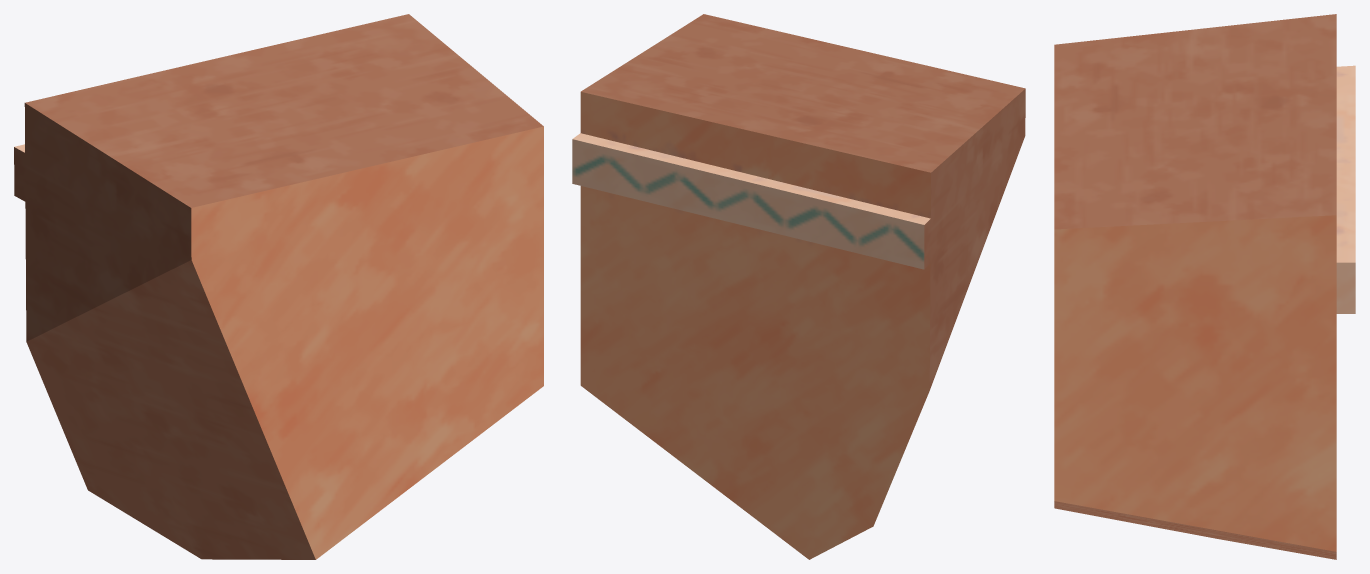
Rendered from townwall_s07.fbx.
3 views of the same model, side by side, from view 1: azimuth 30°, elevation 25°; view 2: azimuth 150°, elevation 25°; view 3: azimuth 270°, elevation 25° (orthographic). The views are drawn at different scales.
Visible parts, largest first — view 1: townwall_s07; view 2: townwall_s07; view 3: townwall_s07.
Part boxes in pixels (bbox=[...]): townwall_s07: bbox=[14, 14, 543, 559]; townwall_s07: bbox=[572, 14, 1025, 559]; townwall_s07: bbox=[1054, 14, 1355, 559].
Size of the model in its own units: 4.95 by 5.6 by 3.2.
